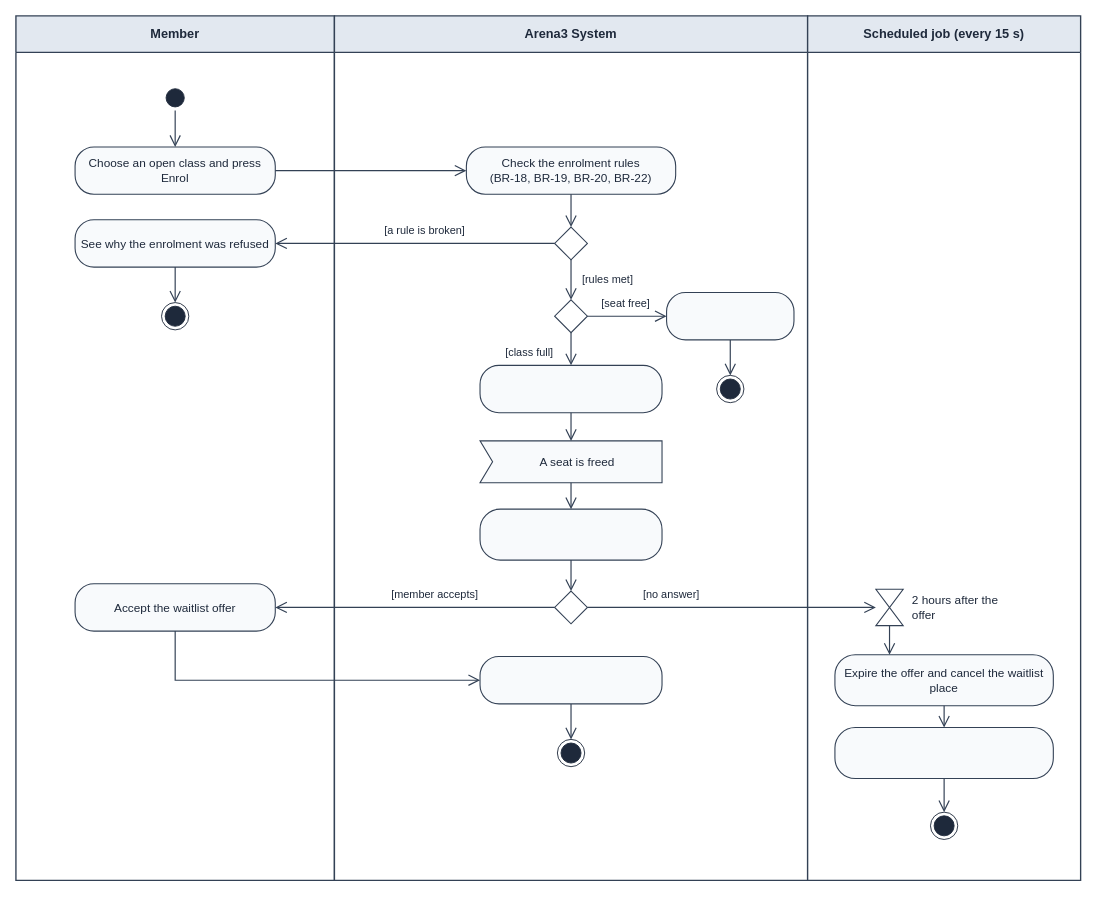
Image size: 1097x897. Some labels were removed from this diagram. Each missing label, with the centre of its shape:
Add the member to the class waitlist: the point at 570,388
Confirm the enrolment: the point at 730,316
Confirm the enrolment and close the offer: the point at 570,680
Offer the seat for 2 hours and notify the member: the point at 570,534
Offer the seat to the next member on the waitlist: the point at 943,753
